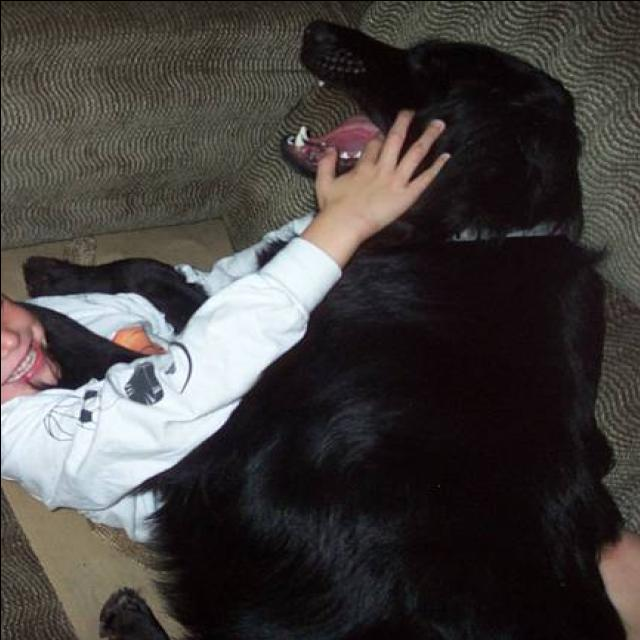dog: (155, 0, 615, 640)
